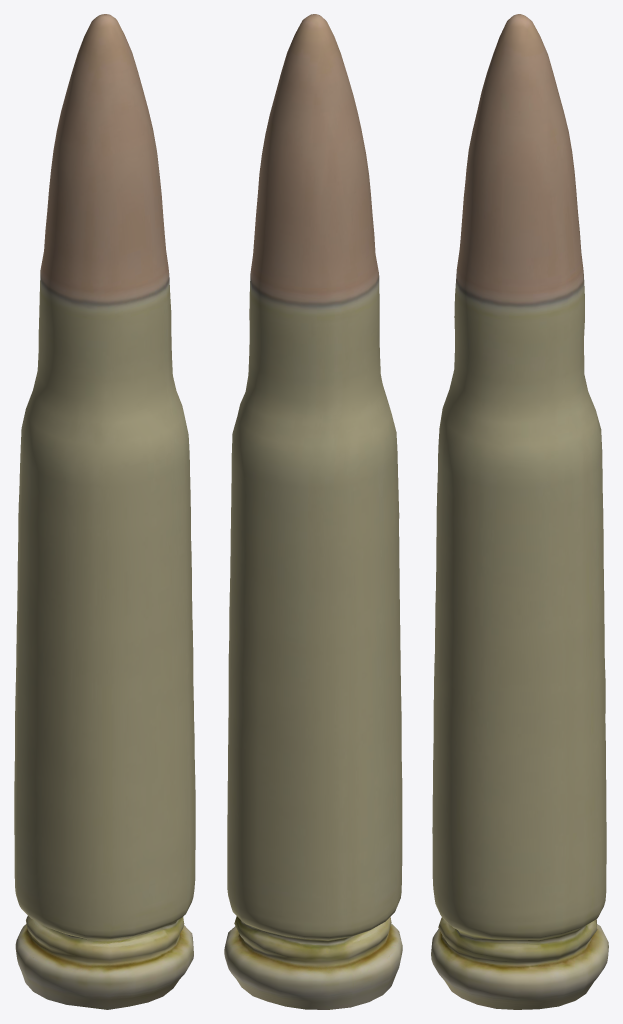
File: bullet_shell__3d_as.fbx
3 views of the same model, side by side, from view 1: azimuth 30°, elevation 25°; view 2: azimuth 150°, elevation 25°; view 3: azimuth 270°, elevation 25° (orthographic).
Parts seen in each view (by area): view 1: mesh; view 2: mesh; view 3: mesh.
Part boxes in pixels (bbox=[...]): mesh: bbox=[14, 14, 195, 1009]; mesh: bbox=[224, 14, 402, 1009]; mesh: bbox=[431, 14, 608, 1009].
Size of the model in its own units: 16.98 by 99.97 by 16.71.
